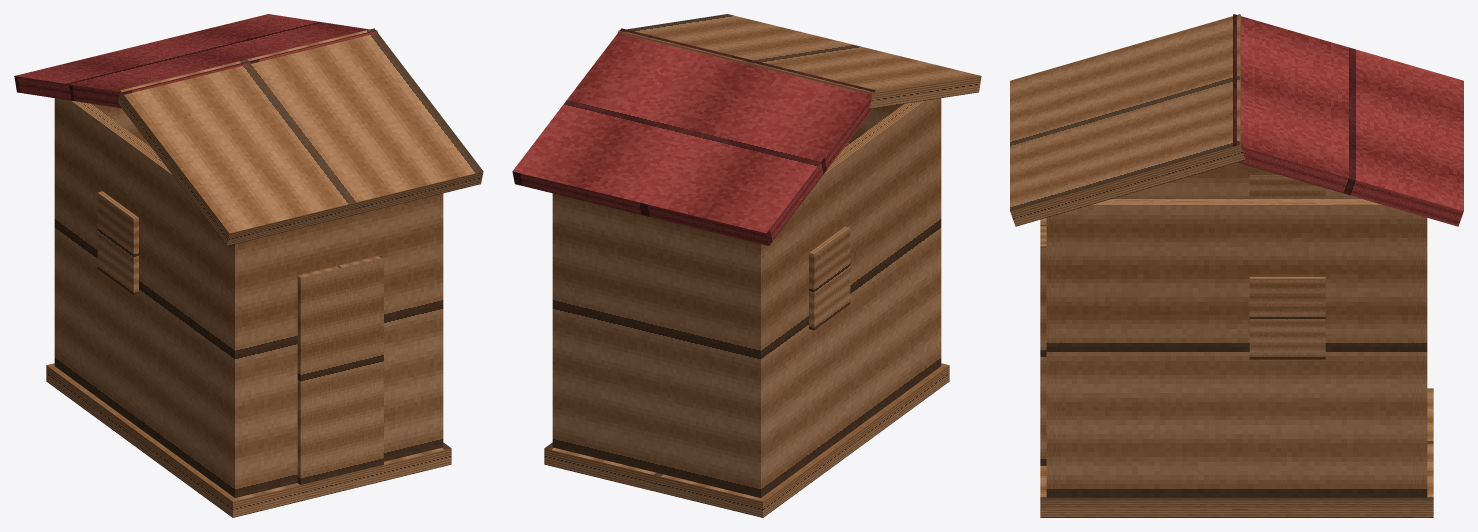
Rendered from cabin.glb.
3 views of the same model, side by side, from view 1: azimuth 30°, elevation 25°; view 2: azimuth 150°, elevation 25°; view 3: azimuth 270°, elevation 25° (orthographic). The views are drawn at different scales.
Parts seen in each view (by area): view 1: cabin; view 2: cabin; view 3: cabin.
Part boxes in pixels (bbox=[...]): cabin: bbox=[14, 14, 483, 517]; cabin: bbox=[512, 14, 981, 517]; cabin: bbox=[1010, 14, 1463, 517].
Bounding box in the file's own units: 2.44 × 3.33 × 3.58.
2 materials, 2 textured.
